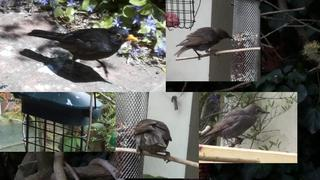blackbird: (27, 27, 139, 82)
starling: (203, 103, 271, 148), (174, 27, 234, 60), (135, 119, 172, 164)
